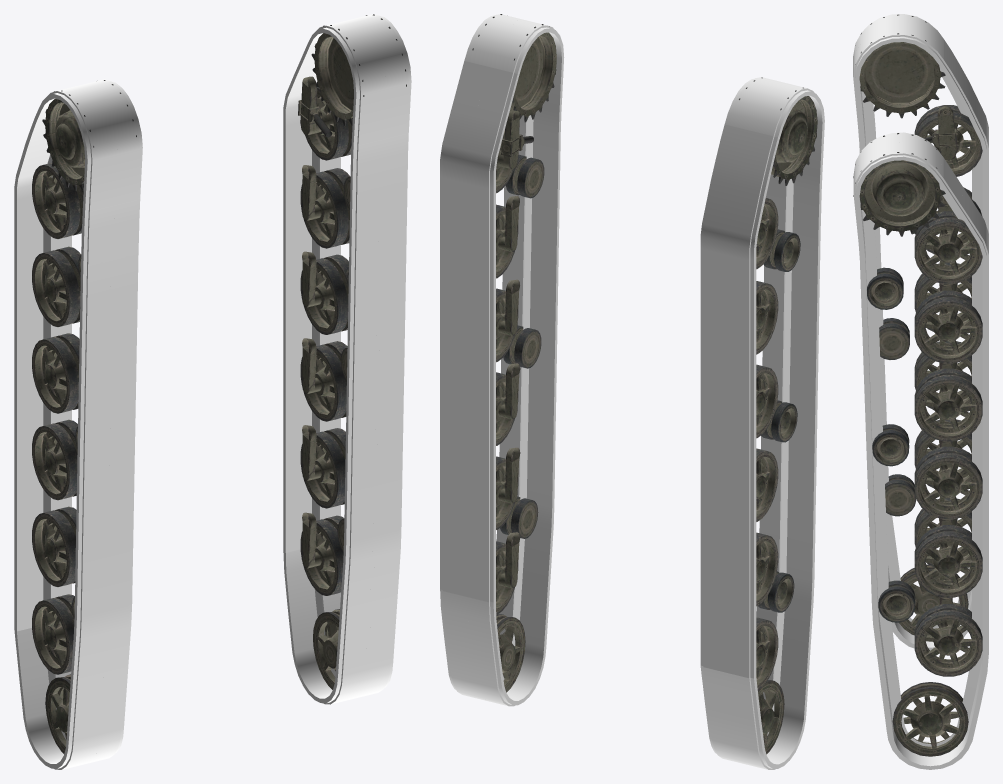
The model's file is Chassis.glb.
3 renders of one model, left to right at view 1: azimuth 30°, elevation 25°; view 2: azimuth 150°, elevation 25°; view 3: azimuth 270°, elevation 25°, orthographic. The views are drawn at different scales.
Visible parts, largest first — view 1: set_0_group_0, set_1_group_0, set_3_group_0, set_2_group_0; view 2: set_0_group_0, set_1_group_0, set_3_group_0, set_2_group_0; view 3: set_3_group_0, set_1_group_0, set_2_group_0, set_0_group_0.
Part boxes in pixels (bbox=[...]): set_0_group_0: bbox=[14, 79, 142, 769]; set_1_group_0: bbox=[283, 14, 411, 704]; set_3_group_0: bbox=[298, 14, 406, 689]; set_2_group_0: bbox=[32, 80, 136, 753]; set_0_group_0: bbox=[700, 77, 824, 769]; set_1_group_0: bbox=[440, 14, 564, 706]; set_3_group_0: bbox=[472, 14, 556, 692]; set_2_group_0: bbox=[739, 77, 817, 754]; set_3_group_0: bbox=[853, 133, 982, 756]; set_1_group_0: bbox=[853, 132, 988, 769]; set_2_group_0: bbox=[855, 14, 982, 635]; set_0_group_0: bbox=[853, 14, 988, 650].
Size of the model in its own units: 2.98 by 5.98 by 1.19.
4 materials, 2 textured.
